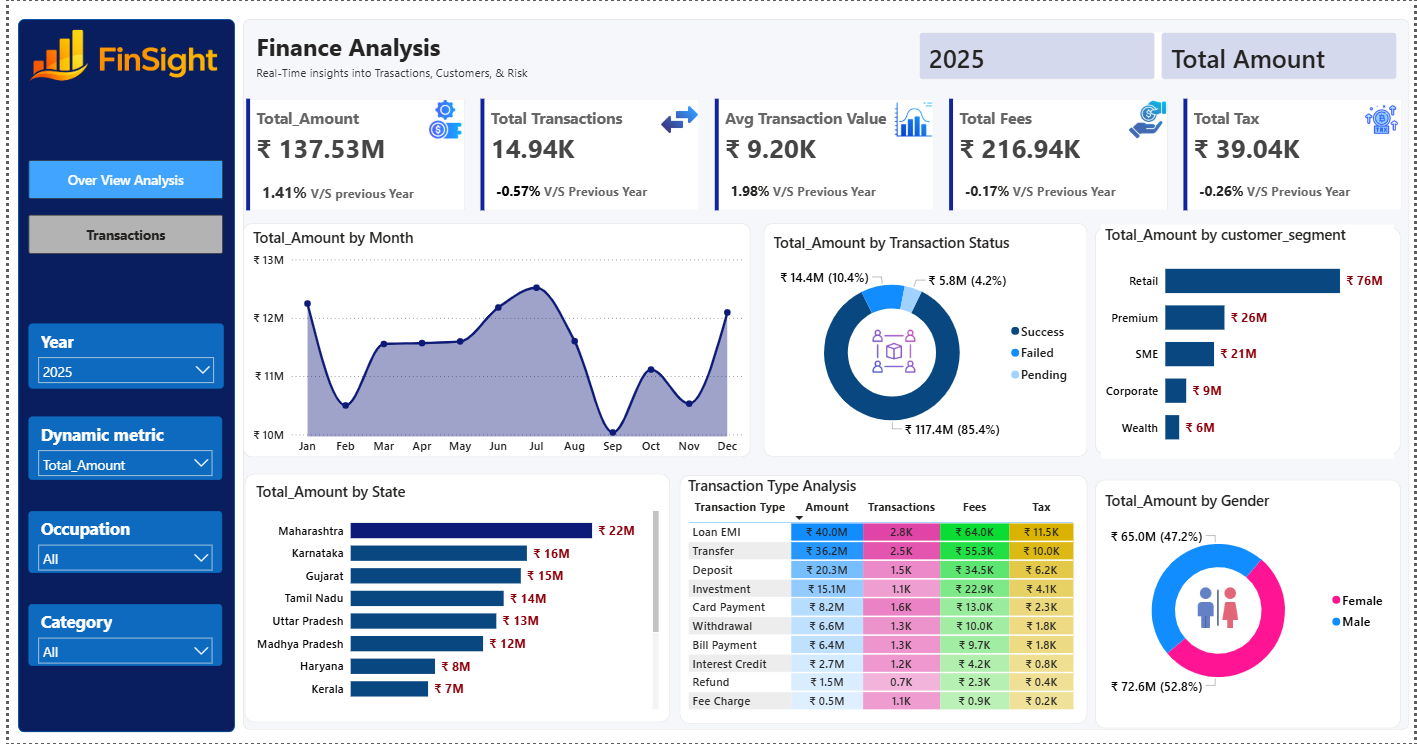

The dashboard page shown, as its layout file describes it:
{"tool":"powerbi","page":{"name":"Over View Analysis","canvas":[1800,950],"ordinal":0},"visuals":[{"type":"shape","box":[299.1,23.5,1493.4,910.1],"z":0},{"type":"shape","box":[11.1,22.2,277.8,913.3],"z":1000},{"type":"image","box":[0,21.4,299.1,98.3],"z":2000},{"type":"cardVisual","fields":{"Data":["finance_transactions.DashBoard Tital"]},"box":[299.6,28.8,401.4,80.7],"z":3000},{"type":"cardVisual","fields":{"Data":["finance_transactions.Total_Amount","finance_transactions.Total Transactions","finance_transactions.Avg Transaction Value","finance_transactions.Total Fees","finance_transactions.Total Tax"]},"box":[298.4,118.9,1492.2,155.7],"z":4000},{"type":"slicer","fields":{"Values":["Calendar Table.Year"]},"box":[25.6,412.3,250,83.3],"z":5000},{"type":"image","box":[533,127,49,49],"z":6000},{"type":"image","box":[833,127,50,50],"z":7000},{"type":"image","box":[1433,127,50,50],"z":8000},{"type":"image","box":[1134,127,50,50],"z":9000},{"type":"image","box":[1732,127,50,50],"z":10000},{"type":"slicer","fields":{"Values":["Dynamic metric.Dynamic metric"]},"box":[25.6,532,247.8,81.2],"z":11000},{"type":"shape","box":[300.5,284.8,650,300],"z":12000},{"type":"cardVisual","fields":{"Data":["finance_transactions.Selected Year","finance_transactions.Selected Dynamic Measure"]},"box":[1160,34.6,622.3,71.1],"z":13000},{"type":"shape","box":[965.4,284.5,414.8,299.6],"z":14000},{"type":"donutChart","fields":{"Y":["finance_transactions.Total_Amount"],"Category":["finance_transactions.transaction_status"]},"box":[973.2,296.3,395.8,283.3],"z":15000},{"type":"shape","box":[1390.6,289.8,391.4,289.8],"z":16000},{"type":"shape","box":[301.5,605,545,318.8],"z":17000},{"type":"clusteredBarChart","fields":{"Y":["finance_transactions.Total_Amount"],"Category":["customers.state"]},"box":[311.9,615.3,525.6,297],"z":18000},{"type":"shape","box":[858.5,606.9,522.4,318.8],"z":19000},{"type":"tableEx","title":"Transaction Type Analysis","fields":{"Values":["finance_transactions.transaction_type","finance_transactions.Total_Amount","finance_transactions.Total Transactions","finance_transactions.Total Fees","finance_transactions.Total Tax"]},"box":[864.2,606.9,505.1,318.8],"z":20000},{"type":"shape","box":[1390.5,612.6,391.8,318.8],"z":21000},{"type":"donutChart","fields":{"Y":["finance_transactions.Total_Amount"],"Category":["customers.gender"]},"box":[1399,626,374.8,283.2],"z":22000},{"type":"image","box":[1509.7,747.4,76.7,59.6],"z":23000},{"type":"image","box":[1094.5,419.5,76.7,59.6],"z":24000},{"type":"clusteredBarChart","fields":{"Y":["finance_transactions.Total_Amount"],"Category":["customers.customer_segment"]},"box":[1399,285.3,374.8,300.2],"z":25000},{"type":"areaChart","fields":{"Y":["finance_transactions.Total_Amount"],"Category":["Calendar Table.Month"]},"box":[306.6,289.6,636.7,300.2],"z":26000},{"type":"slicer","fields":{"Values":["customers.occupation"]},"box":[25.6,653.8,247.8,79],"z":27000},{"type":"slicer","fields":{"Values":["finance_transactions.merchant_category"]},"box":[25.6,771.3,247.8,79],"z":28000},{"type":"pageNavigator","box":[25.6,203,250,121.8],"z":29000}]}

Visuals, with their boxes on the page's 1800x950 design canvas (x1, y1, x2, y2). These are canvas units, not pixel positions in the 1417x744 screenshot, which may show the page scaled, cropped or inside an application window:
shape: pyautogui.locateOnScreen(299, 24, 1792, 934)
shape: pyautogui.locateOnScreen(11, 22, 289, 936)
image: pyautogui.locateOnScreen(0, 21, 299, 120)
cardVisual - finance_transactions.DashBoard Tital: pyautogui.locateOnScreen(300, 29, 701, 110)
cardVisual - finance_transactions.Total_Amount x finance_transactions.Total Transactions: pyautogui.locateOnScreen(298, 119, 1791, 275)
slicer - Calendar Table.Year: pyautogui.locateOnScreen(26, 412, 276, 496)
image: pyautogui.locateOnScreen(533, 127, 582, 176)
image: pyautogui.locateOnScreen(833, 127, 883, 177)
image: pyautogui.locateOnScreen(1433, 127, 1483, 177)
image: pyautogui.locateOnScreen(1134, 127, 1184, 177)
image: pyautogui.locateOnScreen(1732, 127, 1782, 177)
slicer - Dynamic metric.Dynamic metric: pyautogui.locateOnScreen(26, 532, 273, 613)
shape: pyautogui.locateOnScreen(300, 285, 950, 585)
cardVisual - finance_transactions.Selected Year x finance_transactions.Selected Dynamic Measure: pyautogui.locateOnScreen(1160, 35, 1782, 106)
shape: pyautogui.locateOnScreen(965, 284, 1380, 584)
donutChart - finance_transactions.Total_Amount x finance_transactions.transaction_status: pyautogui.locateOnScreen(973, 296, 1369, 580)
shape: pyautogui.locateOnScreen(1391, 290, 1782, 580)
shape: pyautogui.locateOnScreen(302, 605, 846, 924)
clusteredBarChart - finance_transactions.Total_Amount x customers.state: pyautogui.locateOnScreen(312, 615, 838, 912)
shape: pyautogui.locateOnScreen(858, 607, 1381, 926)
"Transaction Type Analysis" tableEx: pyautogui.locateOnScreen(864, 607, 1369, 926)
shape: pyautogui.locateOnScreen(1390, 613, 1782, 931)
donutChart - finance_transactions.Total_Amount x customers.gender: pyautogui.locateOnScreen(1399, 626, 1774, 909)
image: pyautogui.locateOnScreen(1510, 747, 1586, 807)
image: pyautogui.locateOnScreen(1094, 420, 1171, 479)
clusteredBarChart - finance_transactions.Total_Amount x customers.customer_segment: pyautogui.locateOnScreen(1399, 285, 1774, 586)
areaChart - finance_transactions.Total_Amount x Calendar Table.Month: pyautogui.locateOnScreen(307, 290, 943, 590)
slicer - customers.occupation: pyautogui.locateOnScreen(26, 654, 273, 733)
slicer - finance_transactions.merchant_category: pyautogui.locateOnScreen(26, 771, 273, 850)
pageNavigator: pyautogui.locateOnScreen(26, 203, 276, 325)
